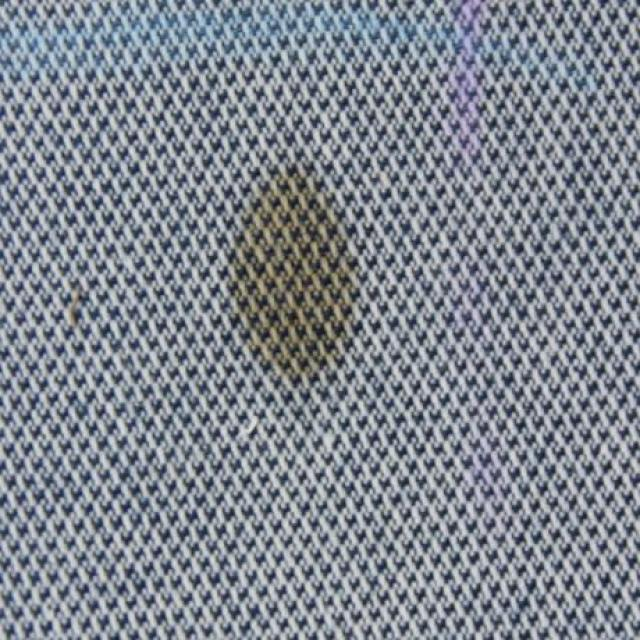Thread_other: (208, 156, 390, 413)
